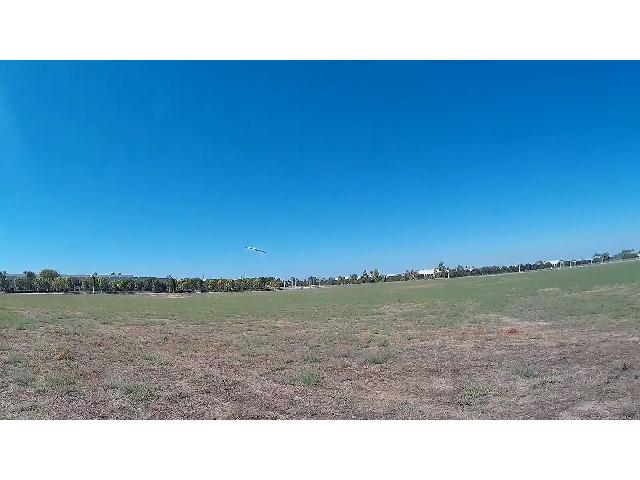Anti-Drone: (244, 247, 266, 253)
